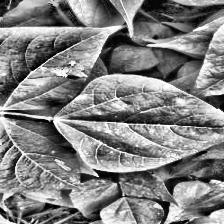Bean Rust: (54, 74, 224, 169), (0, 24, 125, 114), (147, 9, 224, 84)
